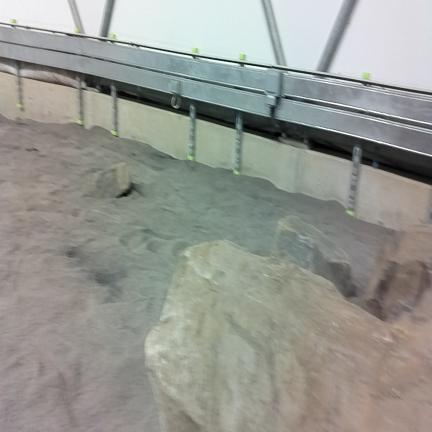Rock: (145, 240, 431, 431), (273, 216, 356, 297), (365, 225, 431, 320), (93, 163, 131, 197)
